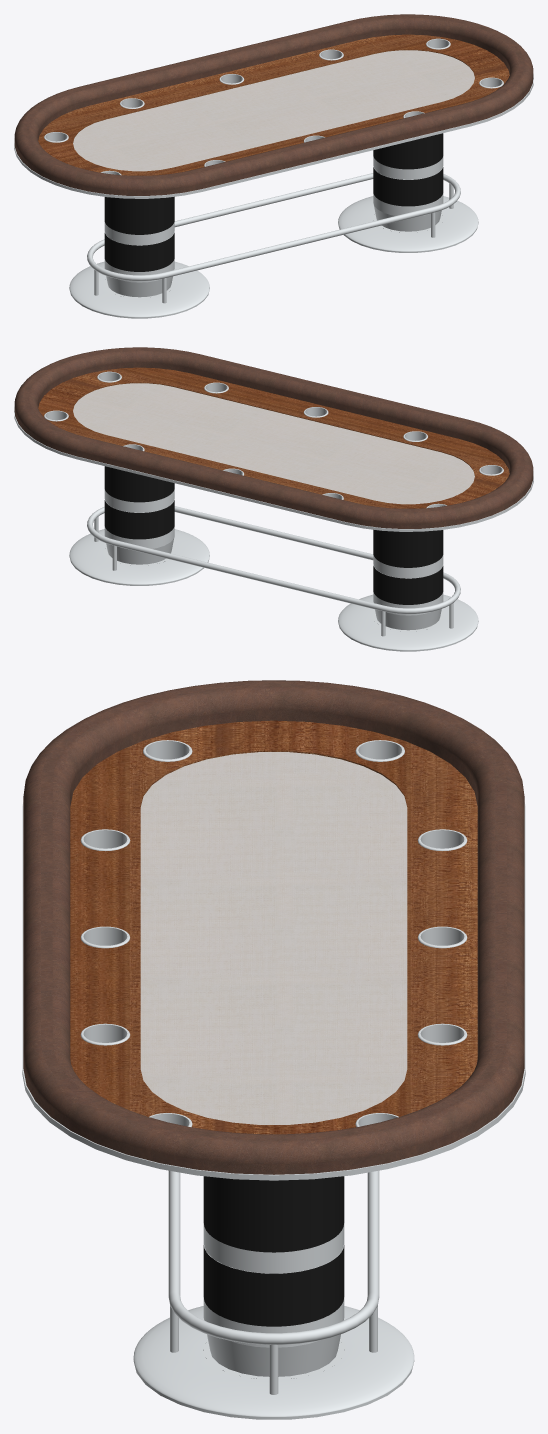
Rendered from theboy.obj.
3 renders of one model, top to bottom at view 1: azimuth 30°, elevation 25°; view 2: azimuth 150°, elevation 25°; view 3: azimuth 270°, elevation 25°, orthographic. The views are drawn at different scales.
Parts seen in each view (by area): view 1: Root|PokerTable_(Default)|Default|leather_2d, Root|PokerTable_(Default)|Default|canvas_2d, Root|PokerTable_(Default)|Default|polished_aluminum, Root|PokerTable_(Default)|Default|polished_mahogany_2d, Root|PokerTable_(Default)|Default|black_low_gloss_plastic; view 2: Root|PokerTable_(Default)|Default|leather_2d, Root|PokerTable_(Default)|Default|canvas_2d, Root|PokerTable_(Default)|Default|polished_aluminum, Root|PokerTable_(Default)|Default|polished_mahogany_2d, Root|PokerTable_(Default)|Default|black_low_gloss_plastic; view 3: Root|PokerTable_(Default)|Default|canvas_2d, Root|PokerTable_(Default)|Default|leather_2d, Root|PokerTable_(Default)|Default|polished_mahogany_2d, Root|PokerTable_(Default)|Default|polished_aluminum, Root|PokerTable_(Default)|Default|black_low_gloss_plastic.
Part boxes in pixels (<box>): Root|PokerTable_(Default)|Default|leather_2d: <box>14,14,533,195</box>; Root|PokerTable_(Default)|Default|canvas_2d: <box>73,50,474,171</box>; Root|PokerTable_(Default)|Default|polished_aluminum: <box>14,38,533,318</box>; Root|PokerTable_(Default)|Default|polished_mahogany_2d: <box>38,34,509,175</box>; Root|PokerTable_(Default)|Default|black_low_gloss_plastic: <box>104,133,443,271</box>; Root|PokerTable_(Default)|Default|leather_2d: <box>14,347,533,528</box>; Root|PokerTable_(Default)|Default|canvas_2d: <box>73,383,474,504</box>; Root|PokerTable_(Default)|Default|polished_aluminum: <box>14,371,533,651</box>; Root|PokerTable_(Default)|Default|polished_mahogany_2d: <box>38,367,509,508</box>; Root|PokerTable_(Default)|Default|black_low_gloss_plastic: <box>104,466,443,604</box>; Root|PokerTable_(Default)|Default|canvas_2d: <box>140,752,407,1124</box>; Root|PokerTable_(Default)|Default|leather_2d: <box>23,680,524,1174</box>; Root|PokerTable_(Default)|Default|polished_mahogany_2d: <box>70,720,477,1134</box>; Root|PokerTable_(Default)|Default|polished_aluminum: <box>22,740,525,1419</box>; Root|PokerTable_(Default)|Default|black_low_gloss_plastic: <box>203,1176,344,1378</box>.
Bounding box in the file's own units: 2.44 × 0.762 × 1.09.
Materials: 5 (3 with a texture image).
